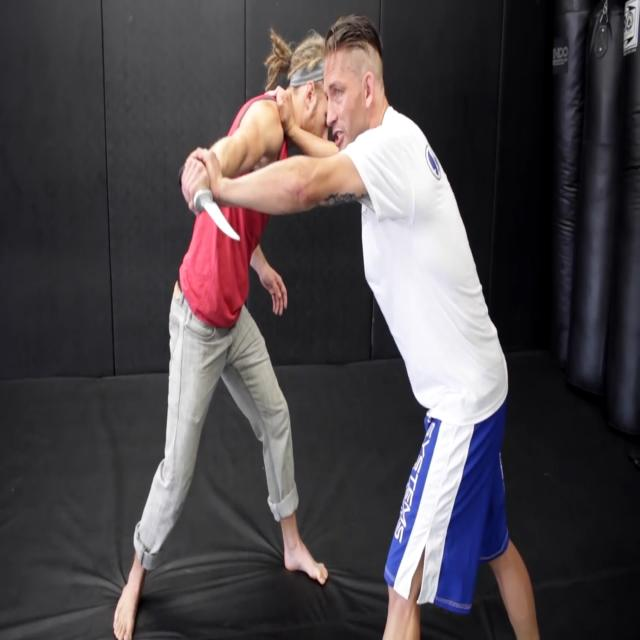knife: (193, 187, 245, 254)
